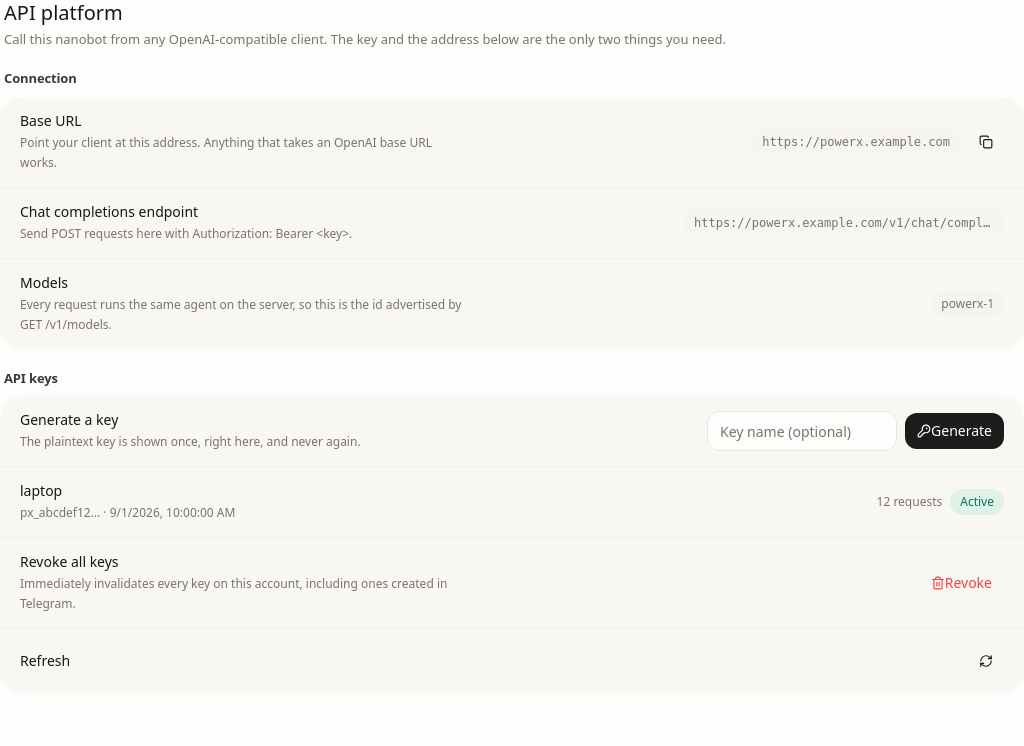
Test case: reveals a generated key once and never asks the server for it again
What coordinates should you click on to do the following:
click the button with test id "api-platform-generate"
I would click on:
 (954, 431)
Its box is [905, 413, 1004, 449].
(page scrolled)
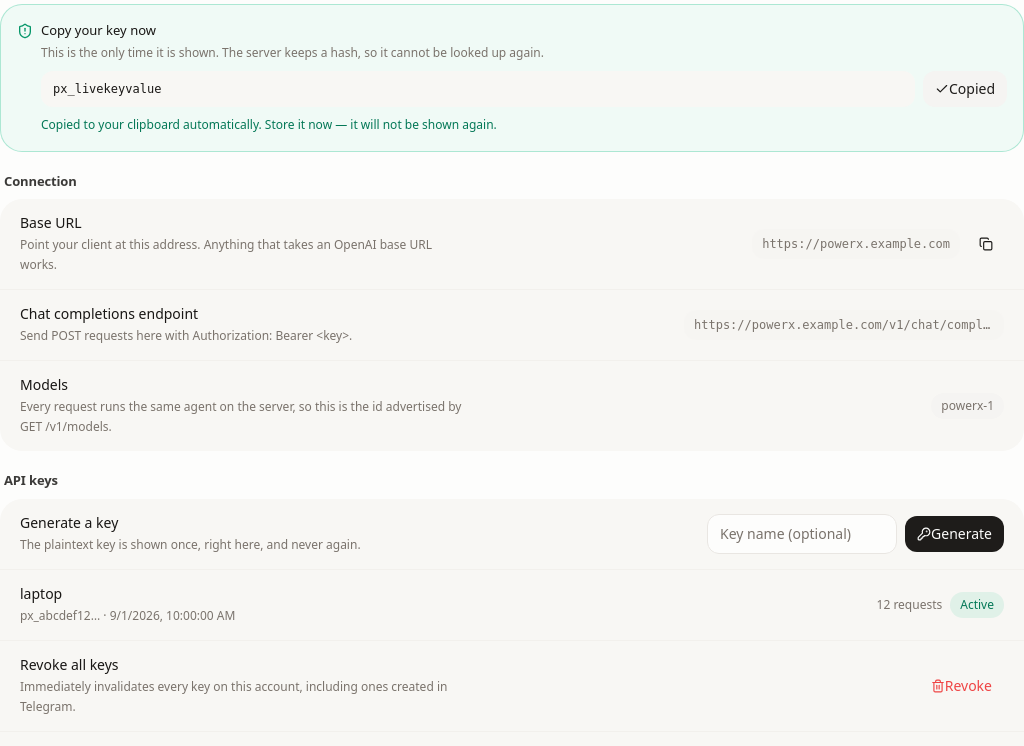
expect the text with test id "api-platform-fresh-key" reads "px_livekeyvalue": met, box [53, 82, 161, 96]
